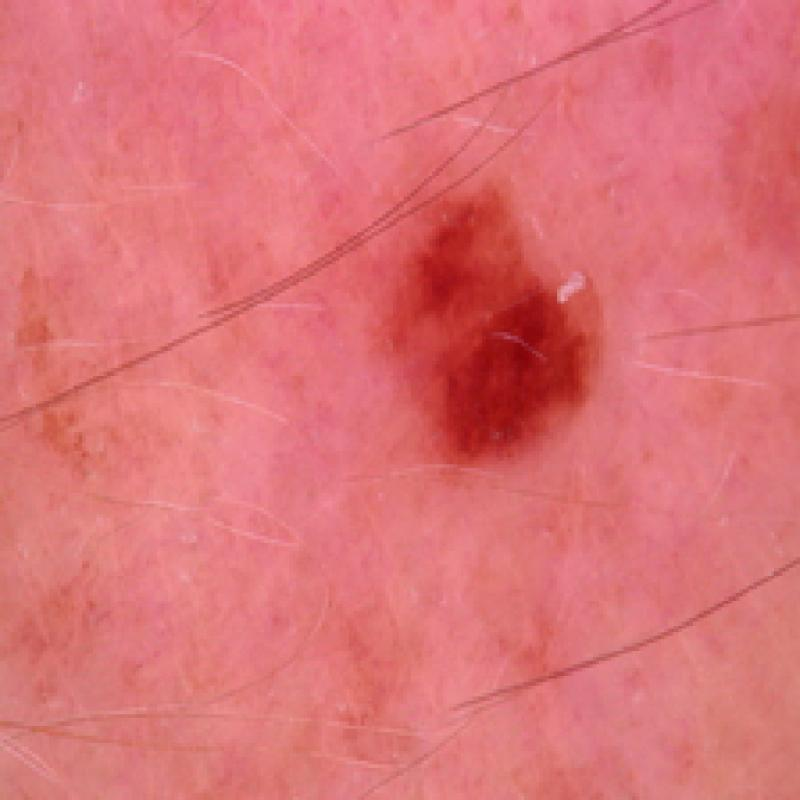benign: (367, 161, 616, 489)
